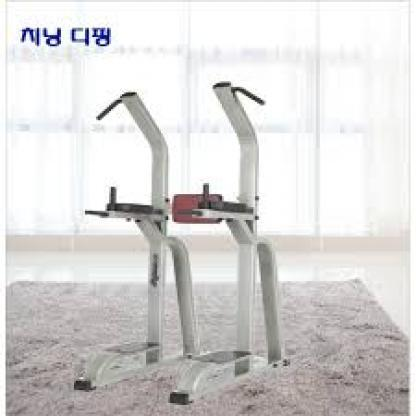chinning dipping: (74, 82, 294, 405)
